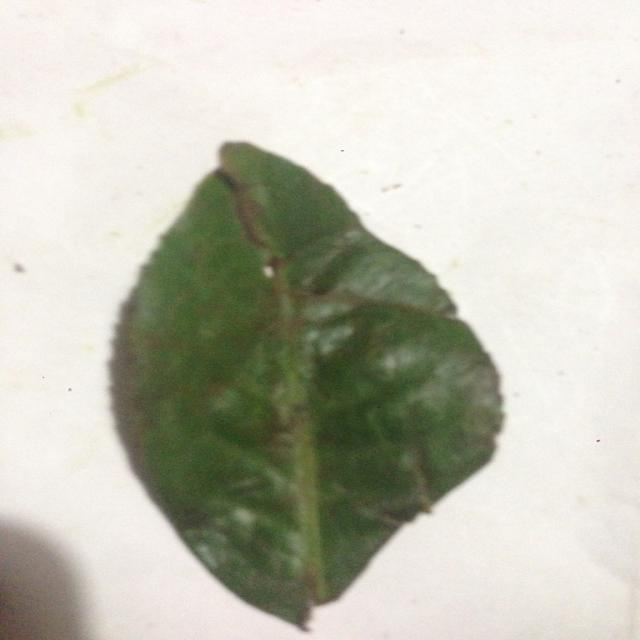Red Leaf Spot: (106, 123, 530, 634)
